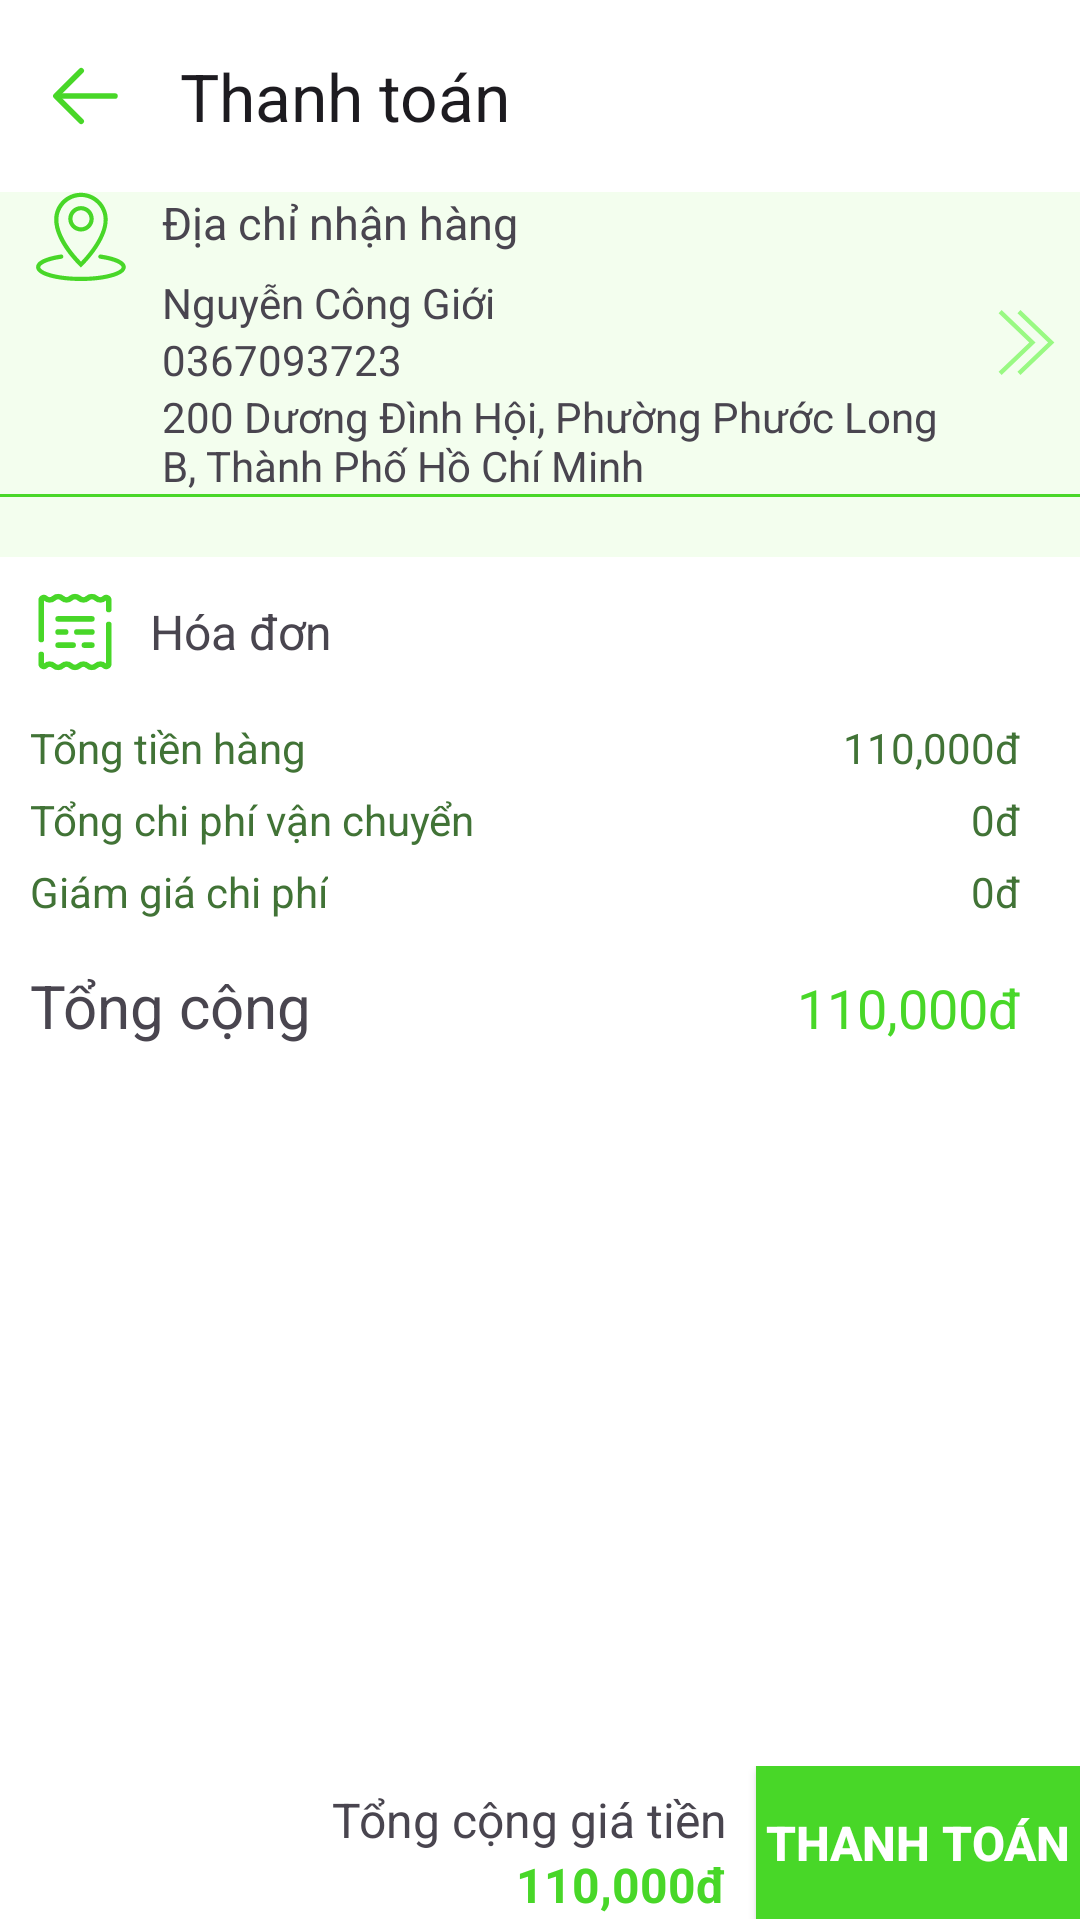

Named icons in this screenshot (1080 x 1920) and their bounding boxes, (x1, y1, x2, y2):
address: (36, 192, 126, 281)
bill: (38, 594, 112, 670)
next foward: (999, 310, 1054, 375)
